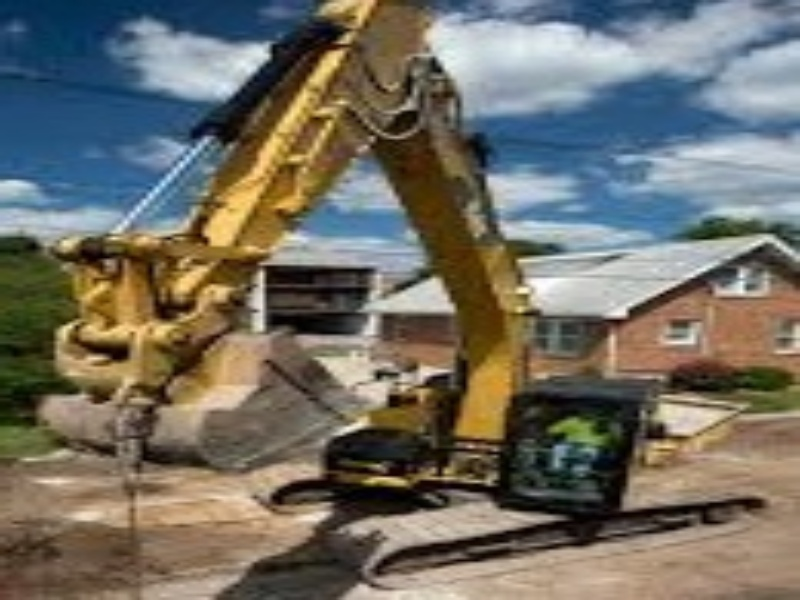wajueji: (272, 341, 794, 575)
